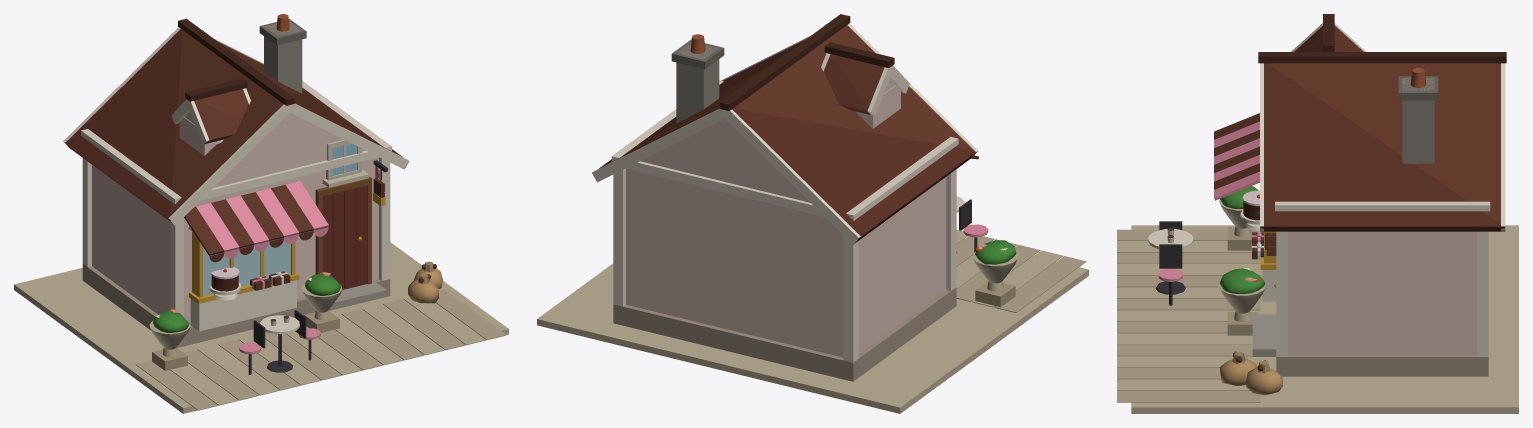
Rendered from chocolatier.glb.
3 views of the same model, side by side, from view 1: azimuth 30°, elevation 25°; view 2: azimuth 150°, elevation 25°; view 3: azimuth 270°, elevation 25° (orthographic). The views are drawn at different scales.
Parts seen in each view (by area): view 1: building-chocolatier, building-chocolatier-far; view 2: building-chocolatier; view 3: building-chocolatier, building-chocolatier-far.
Part boxes in pixels (left/top/right/bottom): building-chocolatier: left=14, top=14, right=508, bottom=413; building-chocolatier-far: left=156, top=14, right=442, bottom=372; building-chocolatier: left=537, top=14, right=1088, bottom=413; building-chocolatier: left=1117, top=14, right=1518, bottom=413; building-chocolatier-far: left=1148, top=68, right=1422, bottom=394.
Size of the model in its own units: 6 by 4.42 by 5.6.
